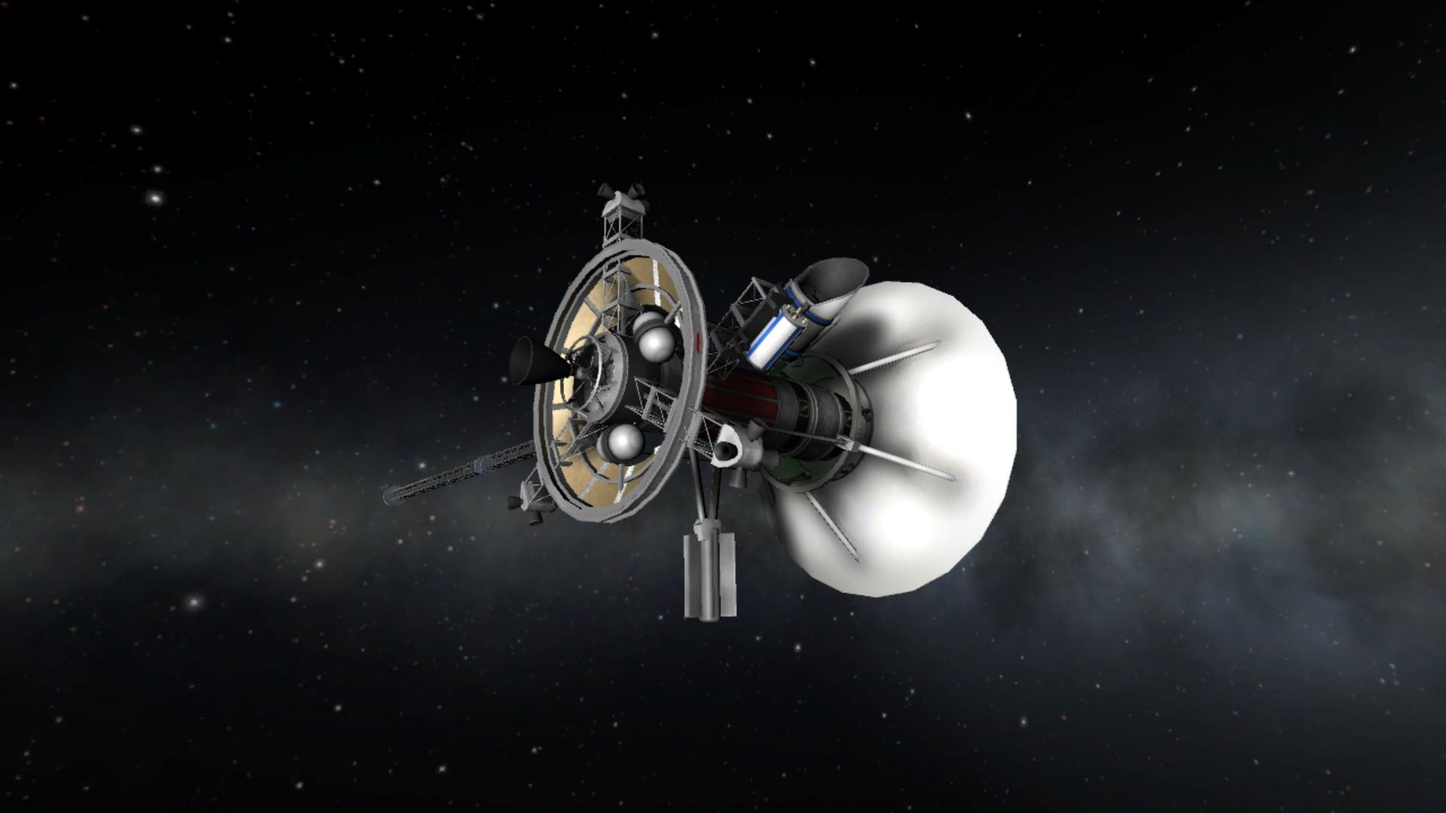antenna: (765, 276, 1032, 598)
body: (694, 356, 855, 466)
thruster: (504, 332, 576, 388), (743, 415, 770, 443), (725, 464, 750, 492), (713, 439, 740, 464), (755, 449, 781, 473), (624, 180, 647, 202), (596, 180, 617, 202), (526, 508, 546, 528), (505, 493, 525, 512)
